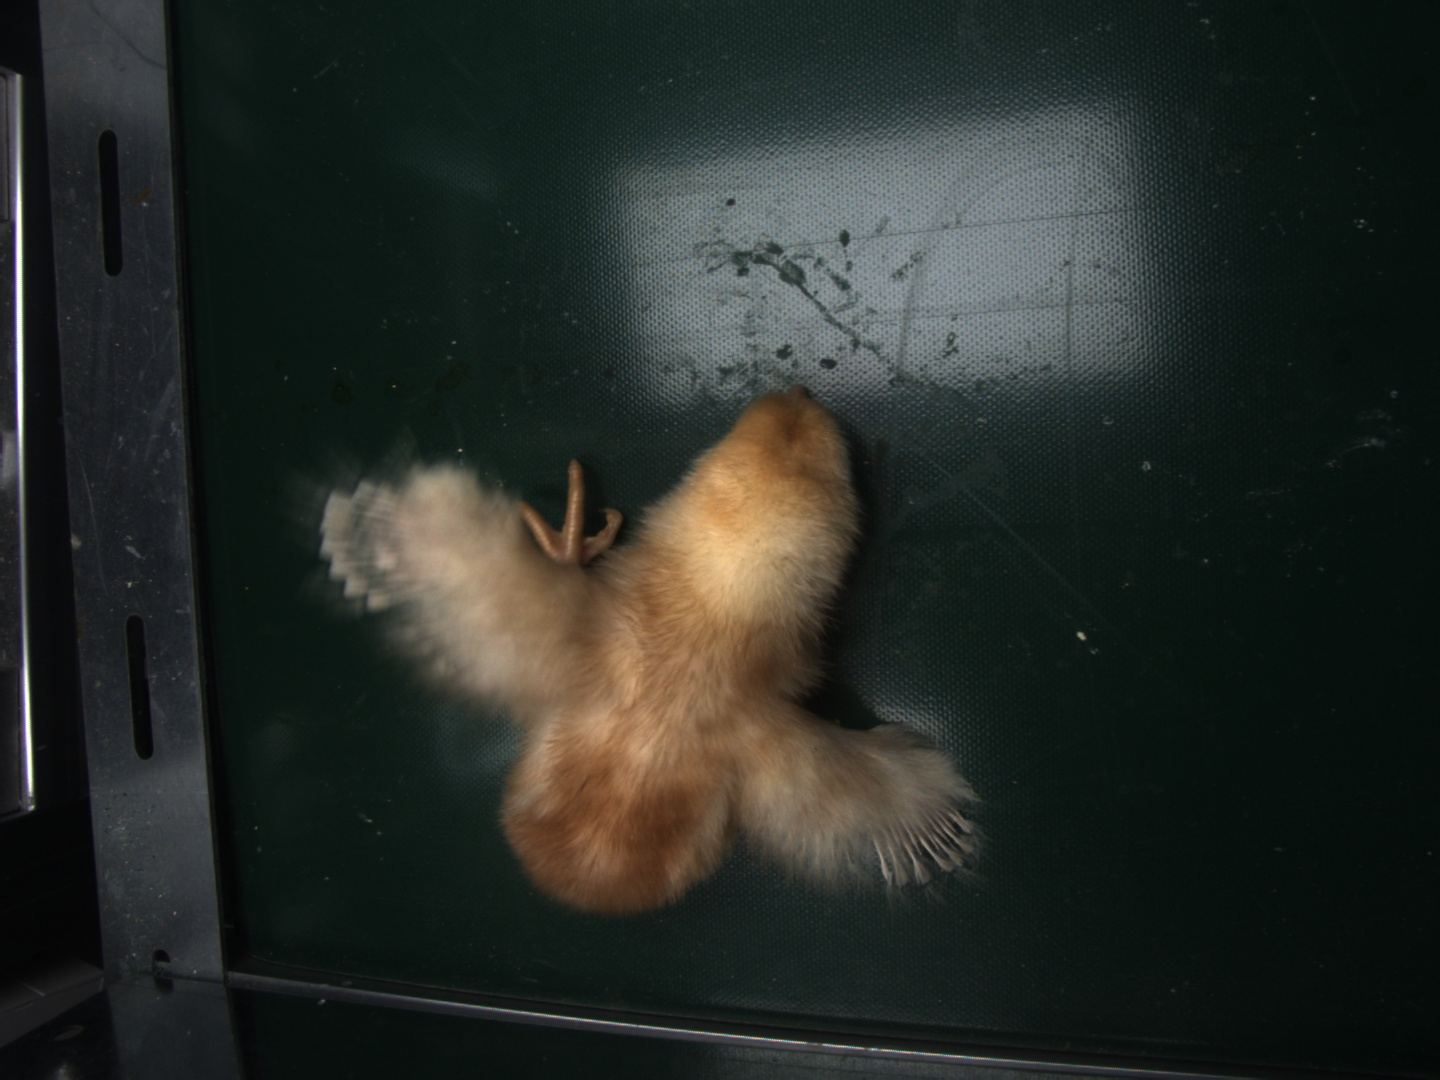female: (872, 799, 976, 881)
